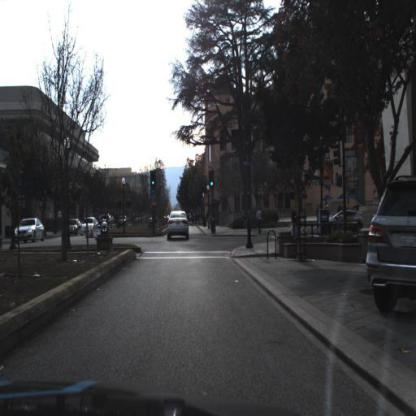biker: (326, 203, 331, 215)
car: (366, 178, 416, 321), (328, 209, 365, 235), (13, 218, 47, 246), (167, 209, 192, 242), (79, 216, 102, 239), (67, 216, 84, 237)
trafficLight-Green: (150, 169, 157, 190), (210, 171, 215, 192)
